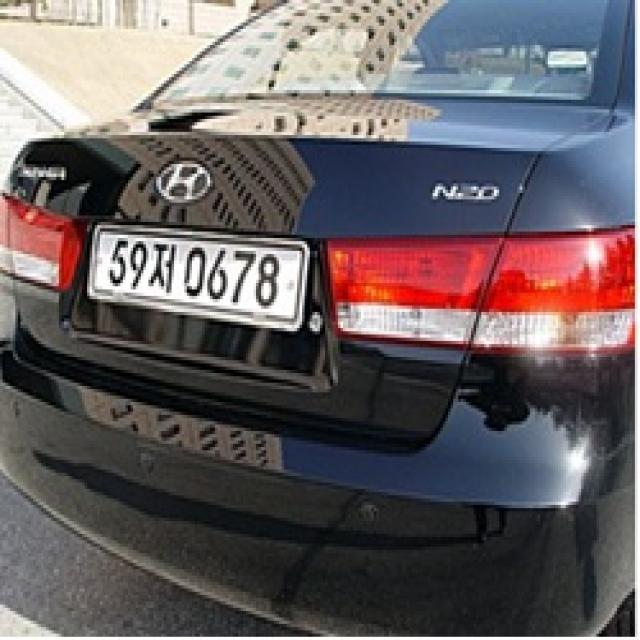car: (71, 205, 333, 360)
